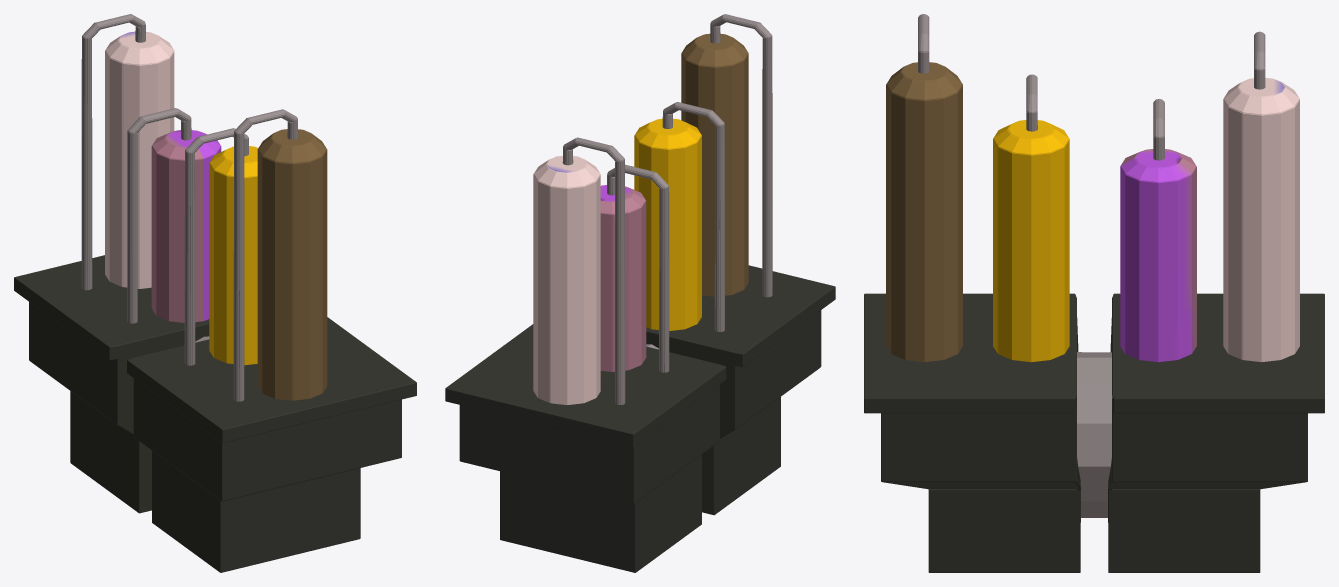
Rendered from Machine.fbx.
3 views of the same model, side by side, from view 1: azimuth 30°, elevation 25°; view 2: azimuth 150°, elevation 25°; view 3: azimuth 270°, elevation 25° (orthographic). The views are drawn at different scales.
Visible parts, largest first — view 1: Cube.006; view 2: Cube.006; view 3: Cube.006.
Boxes of the visible parts, x1=… form: Cube.006: x1=14, y1=14, x2=416, y2=572; Cube.006: x1=445, y1=14, x2=835, y2=572; Cube.006: x1=864, y1=14, x2=1324, y2=572.
Bounding box in the file's own units: 125 × 275 × 231.
